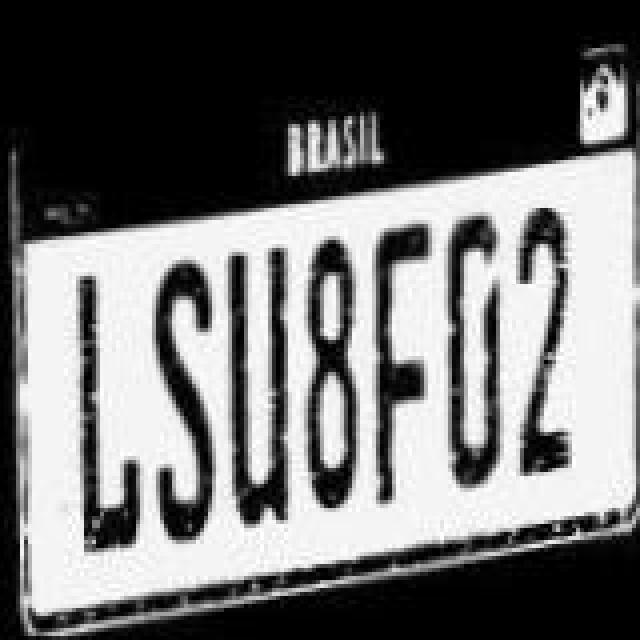2: (500, 214, 568, 502)
8: (296, 224, 356, 520)
D: (432, 218, 500, 510)
F: (360, 214, 428, 518)
L: (64, 258, 144, 554)
S: (146, 254, 222, 554)
U: (222, 226, 294, 526)
